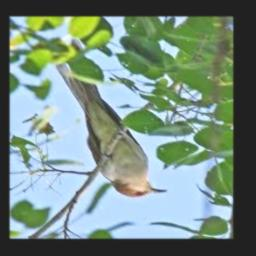Cuckoo: (54, 41, 168, 198)
